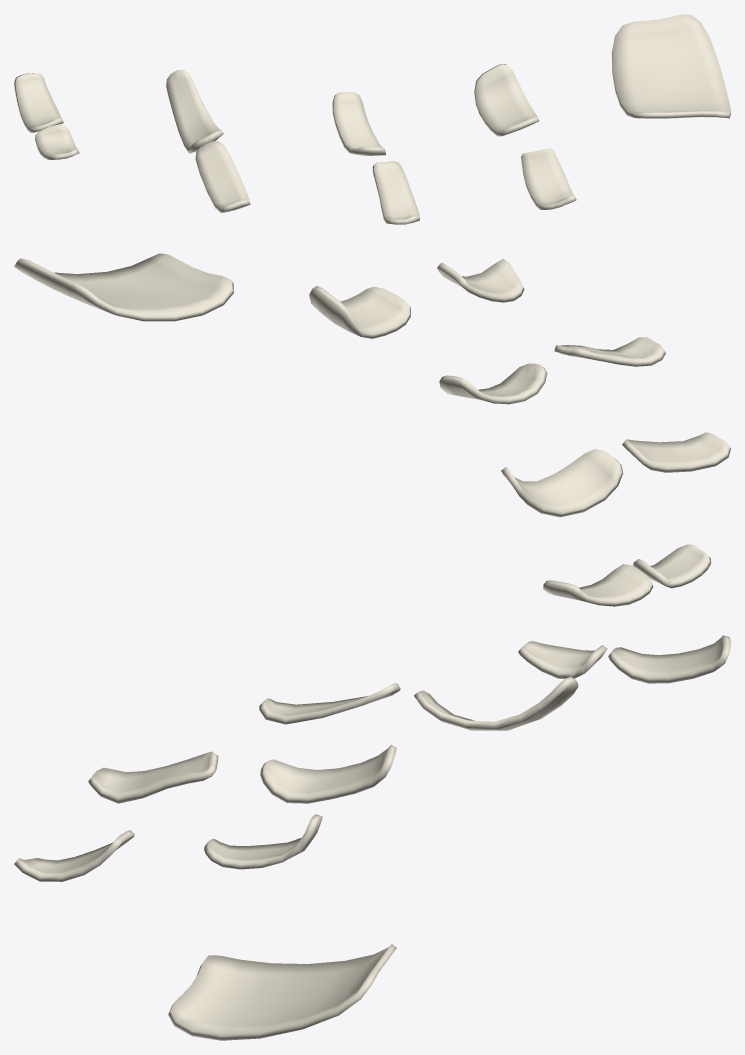
The picture shows the model from 3 angles, top to bottom: view 1: azimuth 30°, elevation 25°; view 2: azimuth 150°, elevation 25°; view 3: azimuth 270°, elevation 25°; orthographic projection. The views are drawn at different scales.
Parts seen in each view (by area): view 1: ZA_8490012c53875d8a; view 2: ZA_8490012c53875d8a; view 3: ZA_8490012c53875d8a.
Part boxes in pixels (left/top/right/bottom): ZA_8490012c53875d8a: left=14, top=14, right=730, bottom=224; ZA_8490012c53875d8a: left=14, top=253, right=730, bottom=606; ZA_8490012c53875d8a: left=14, top=635, right=730, bottom=1040.
Bounding box in the file's own units: 0.073 × 0.008 × 0.0544.
